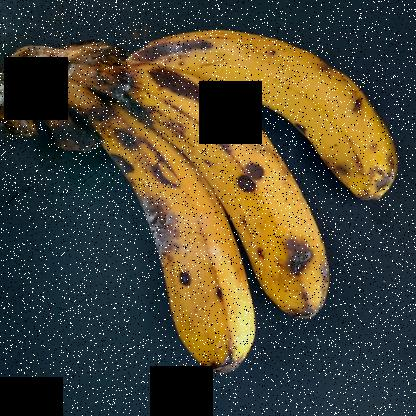ripe: (145, 51, 335, 329), (140, 21, 400, 196)
rotten: (54, 92, 260, 382)
